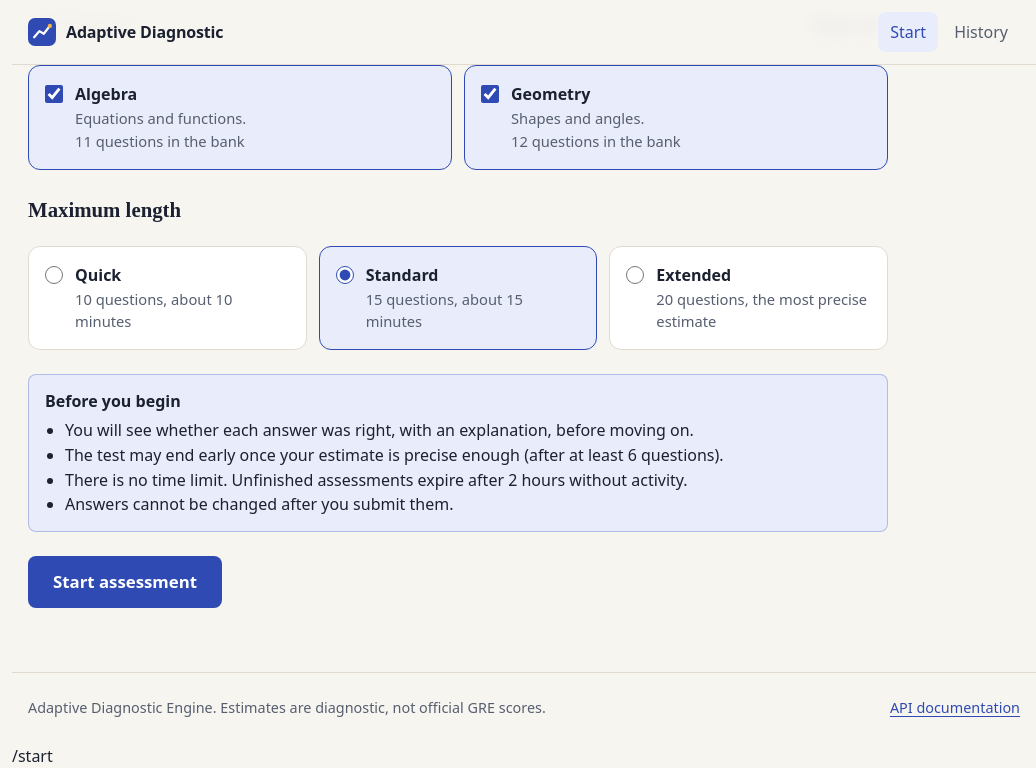
Scenario: setup page › reports server-side validation errors from creation
(page scrolled)
Click the button "Start assessment": (125, 582) [28,556,222,608]
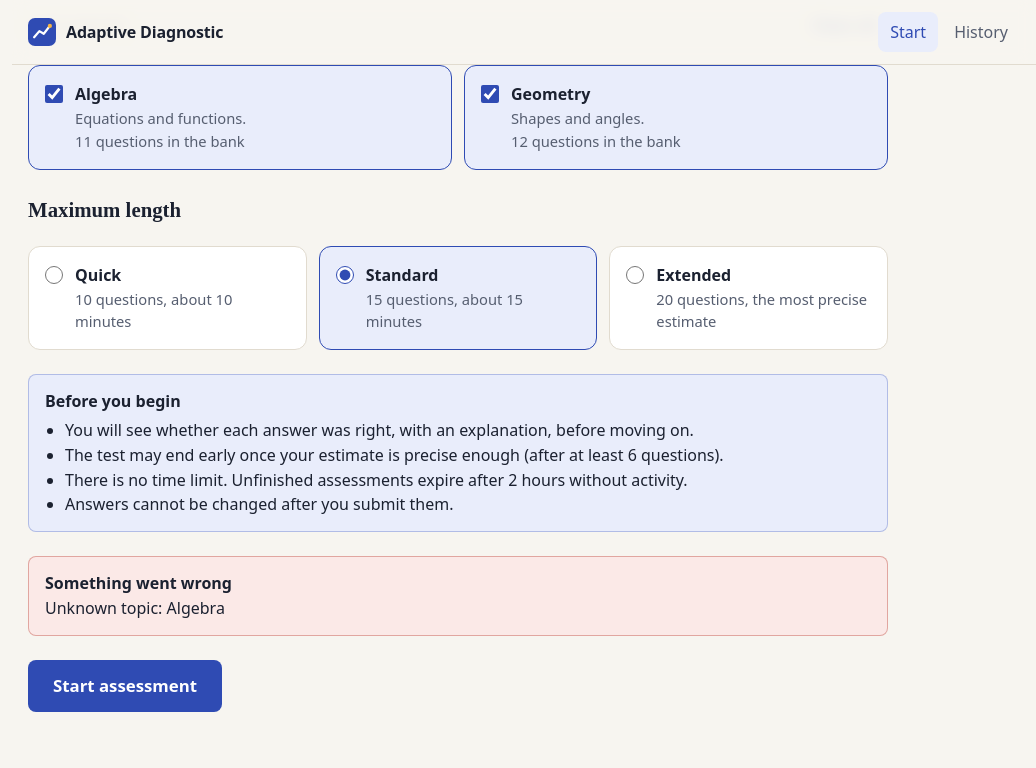
expect the button "Start assessment" is enabled: met, box [28,660,222,712]
expect the text "Unknown topic: Algebra" is shown: met, box [45,597,225,619]
